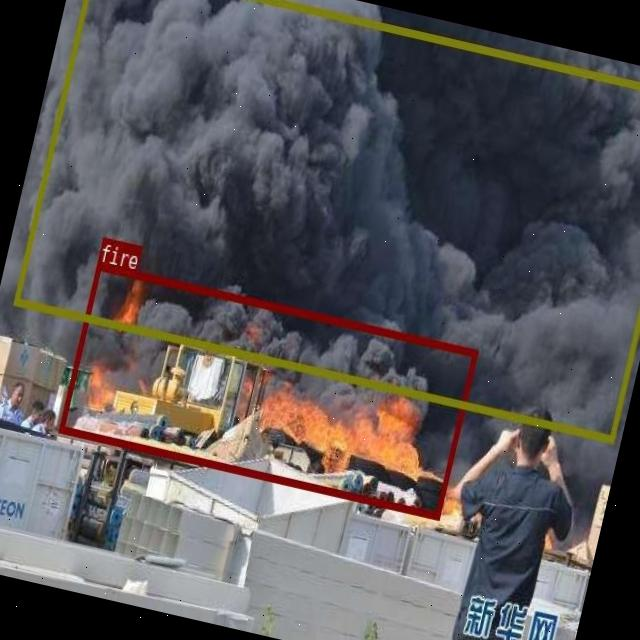fire: (59, 260, 476, 518)
smoke: (12, 0, 640, 441)
